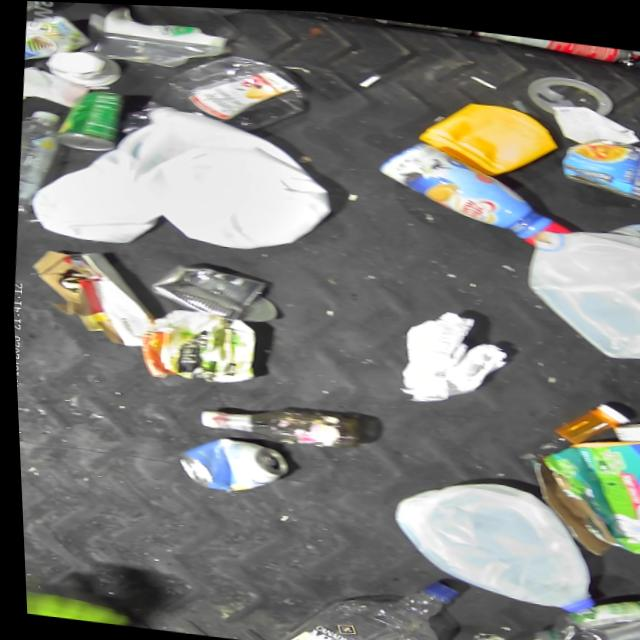can: (143, 255, 281, 323), (169, 429, 287, 496), (556, 127, 640, 199), (470, 26, 640, 61), (51, 83, 126, 153), (372, 14, 471, 32)
milk_jug: (105, 98, 341, 258), (379, 465, 600, 610), (514, 217, 640, 358), (22, 138, 168, 247)
plastic_bottle: (13, 106, 66, 218), (629, 44, 640, 76)
